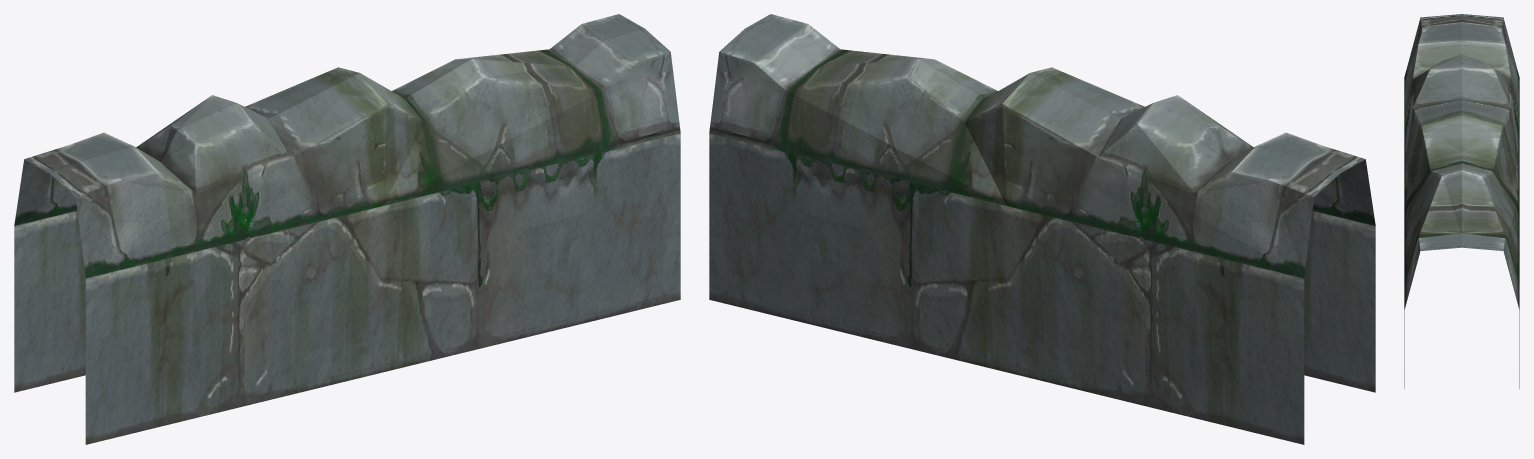
The model's file is stemple_quarter_straight_shadow_07.fbx.
3 renders of one model, left to right at view 1: azimuth 30°, elevation 25°; view 2: azimuth 150°, elevation 25°; view 3: azimuth 270°, elevation 25°, orthographic. The views are drawn at different scales.
Parts seen in each view (by area): view 1: obj1.123; view 2: obj1.123; view 3: obj1.123.
Part boxes in pixels (x1,y1,x2,y2): obj1.123: [14, 14, 680, 444]; obj1.123: [709, 14, 1375, 444]; obj1.123: [1404, 14, 1519, 388].
Size of the model in its own units: 4 by 1.74 by 0.8328.
